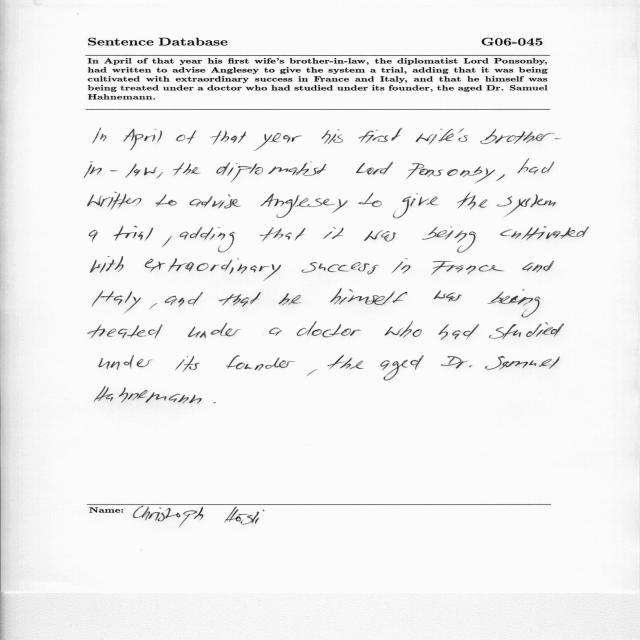word: (145, 258, 281, 281), (216, 162, 326, 182), (260, 193, 348, 218), (94, 386, 202, 404), (407, 163, 495, 183), (488, 289, 541, 318), (422, 226, 476, 253), (180, 227, 235, 252), (331, 289, 408, 306), (497, 195, 556, 217), (489, 323, 564, 340), (84, 161, 158, 178), (500, 226, 589, 240), (480, 129, 560, 144), (393, 193, 439, 219), (380, 355, 424, 381), (88, 324, 163, 339), (227, 355, 296, 371), (93, 291, 142, 313), (485, 356, 560, 370), (297, 321, 361, 337), (88, 192, 142, 210), (431, 261, 504, 274), (302, 262, 379, 274), (253, 133, 302, 151), (124, 129, 162, 150), (188, 323, 241, 338), (99, 355, 152, 370), (416, 129, 468, 144), (190, 194, 241, 209), (259, 227, 306, 242), (359, 128, 403, 143), (439, 324, 480, 340), (384, 321, 422, 338), (218, 292, 261, 307), (113, 226, 153, 241), (90, 256, 124, 273), (518, 159, 554, 175), (165, 292, 203, 307), (457, 192, 488, 210), (210, 131, 246, 145), (328, 355, 364, 369), (356, 162, 393, 175), (441, 356, 472, 369), (175, 356, 200, 372), (364, 230, 396, 242), (522, 261, 554, 272), (173, 163, 200, 176), (359, 193, 382, 207), (322, 129, 343, 144), (434, 291, 462, 302), (176, 130, 197, 144), (392, 258, 410, 274), (279, 293, 302, 305), (156, 194, 177, 207), (324, 227, 344, 239), (93, 128, 107, 143), (162, 236, 172, 247), (89, 230, 98, 242), (269, 328, 282, 336), (307, 369, 317, 376), (496, 174, 505, 181), (149, 303, 158, 309), (157, 172, 163, 178), (214, 402, 216, 403)
